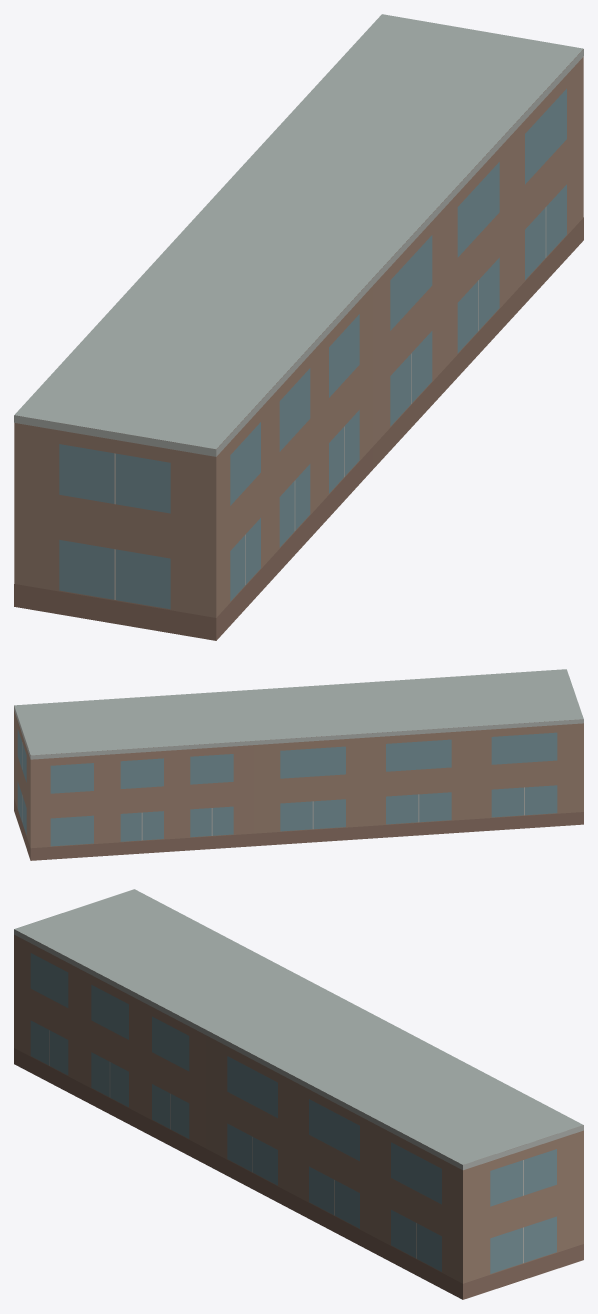
The model's file is survey-upis-32582541.glb.
3 views of the same model, one above another, from view 1: azimuth 30°, elevation 25°; view 2: azimuth 150°, elevation 25°; view 3: azimuth 270°, elevation 25° (orthographic). The views are drawn at different scales.
Visible parts, largest first — view 1: survey-upis-32582541.tmp; view 2: survey-upis-32582541.tmp; view 3: survey-upis-32582541.tmp.
Boxes of the visible parts, x1=… form: survey-upis-32582541.tmp: x1=14, y1=14, x2=583, y2=640; survey-upis-32582541.tmp: x1=14, y1=669, x2=583, y2=860; survey-upis-32582541.tmp: x1=14, y1=889, x2=583, y2=1299.
Size of the model in its own units: 26.76 by 6.1 by 23.36.
